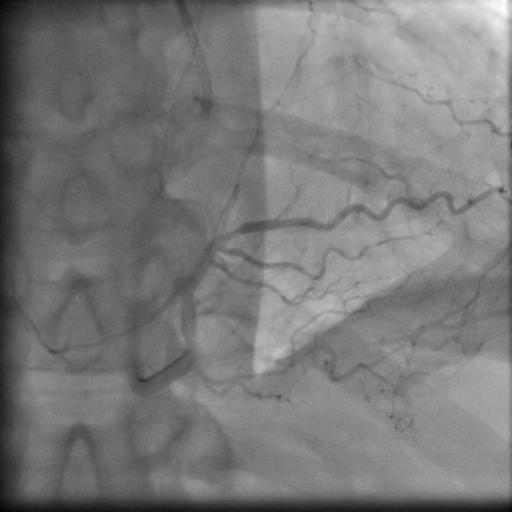Stenosis: (220, 222, 243, 243)
